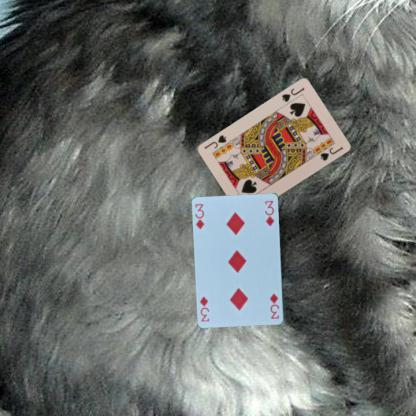3d: (192, 201, 206, 231), (268, 291, 280, 320)
Js: (279, 85, 306, 103)
